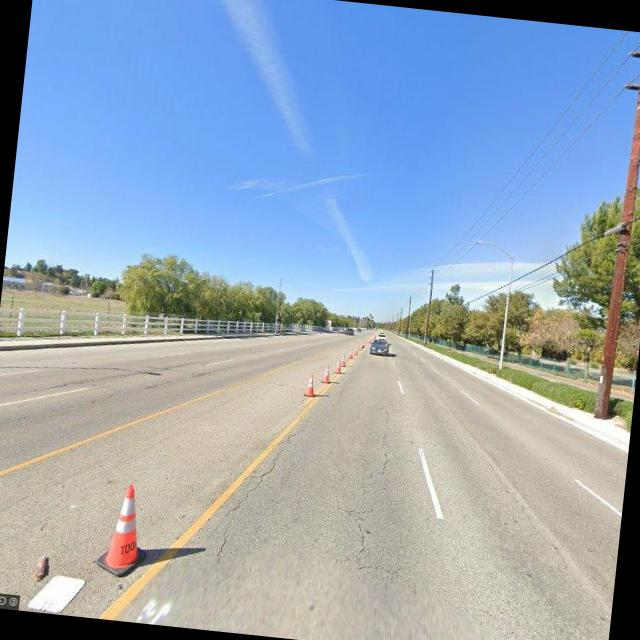pothole: (211, 409, 313, 563), (343, 504, 378, 571), (371, 398, 400, 478)
